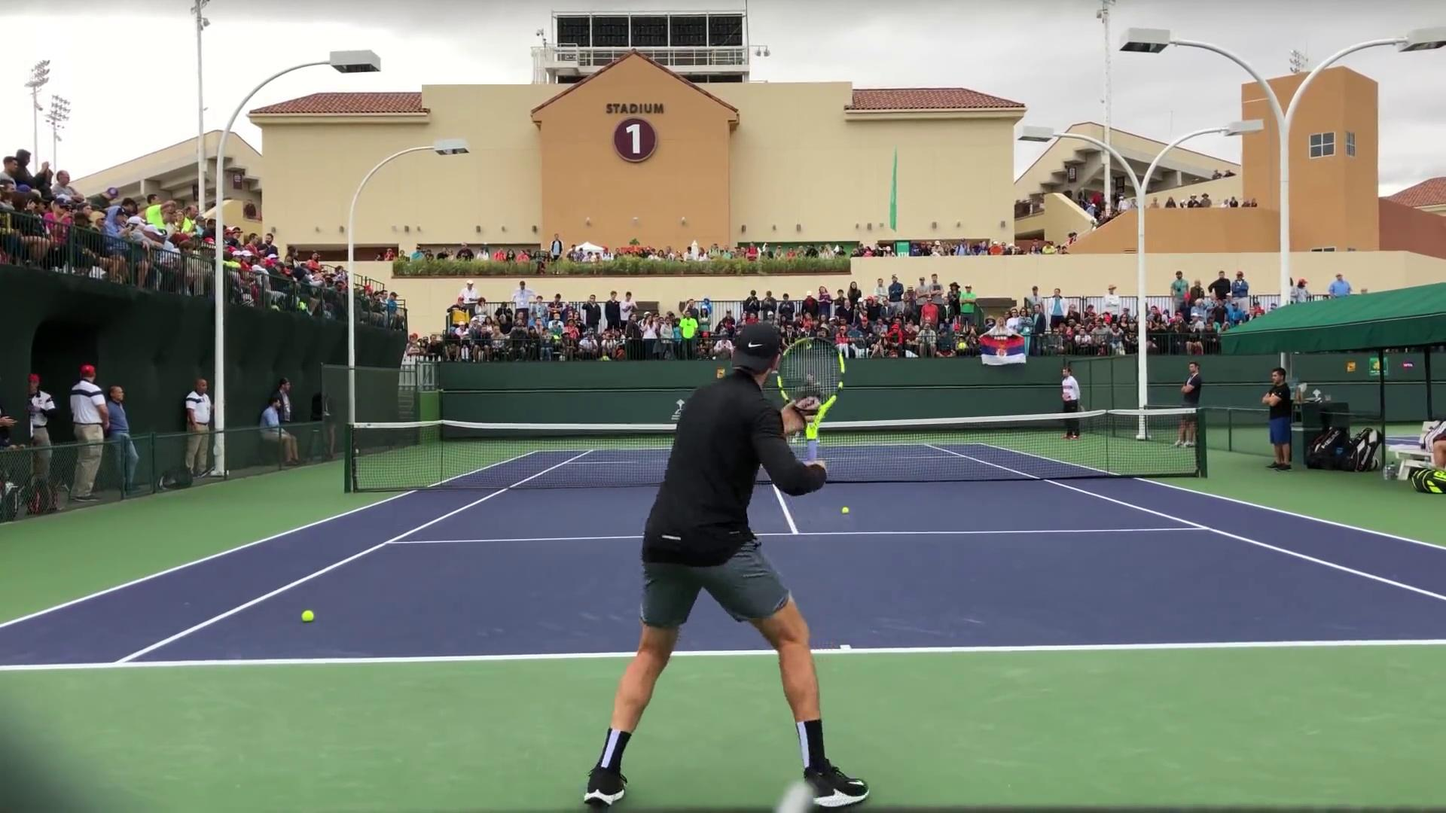ball: (300, 610, 315, 623), (841, 505, 850, 515), (483, 496, 491, 501)
